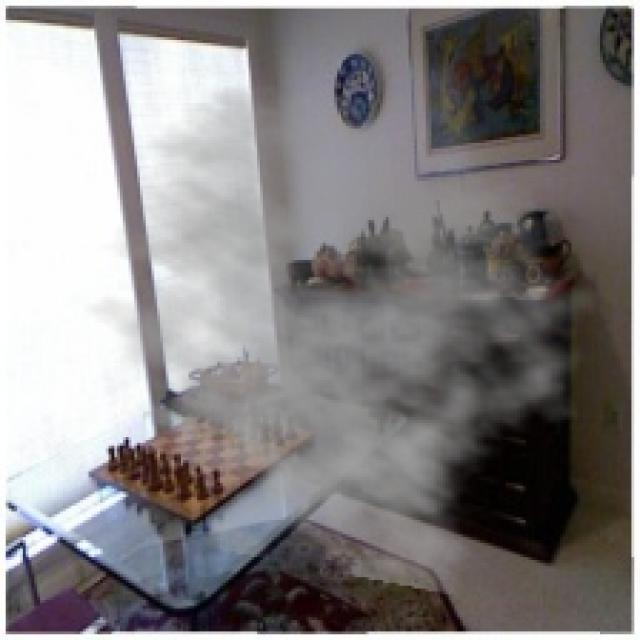Smoke: (63, 80, 603, 597)
